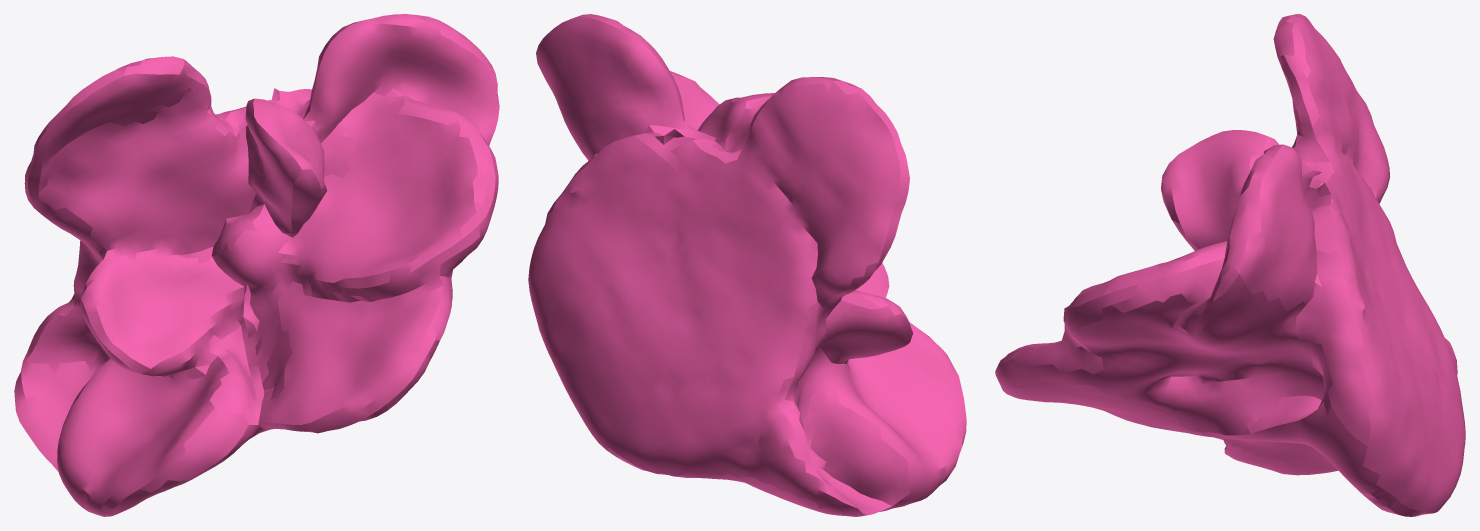
The model's file is flowerhat.fbx.
3 views of the same model, side by side, from view 1: azimuth 30°, elevation 25°; view 2: azimuth 150°, elevation 25°; view 3: azimuth 270°, elevation 25° (orthographic). The views are drawn at different scales.
Parts seen in each view (by area): view 1: Polygon; view 2: Polygon; view 3: Polygon.
Part boxes in pixels (x1,y1,x2,y2): Polygon: (14, 14, 499, 516); Polygon: (528, 14, 966, 516); Polygon: (995, 14, 1465, 516).
Bounding box in the file's own units: 0.431 × 0.4139 × 0.3841.
